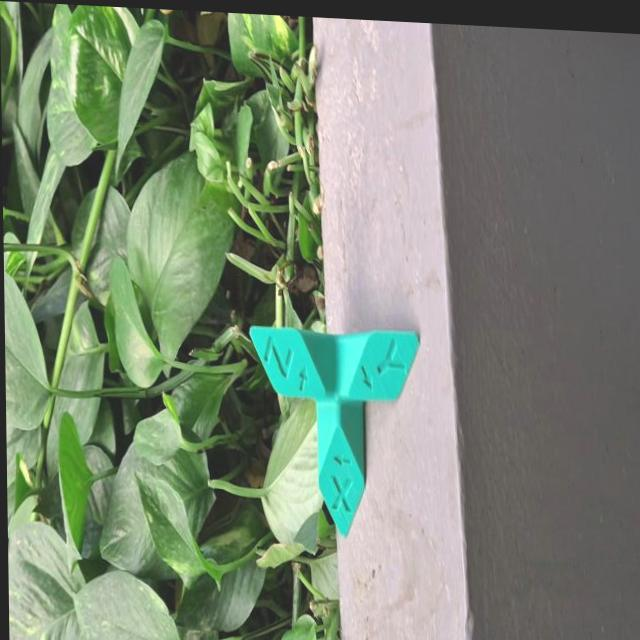eje: (248, 319, 424, 545)
